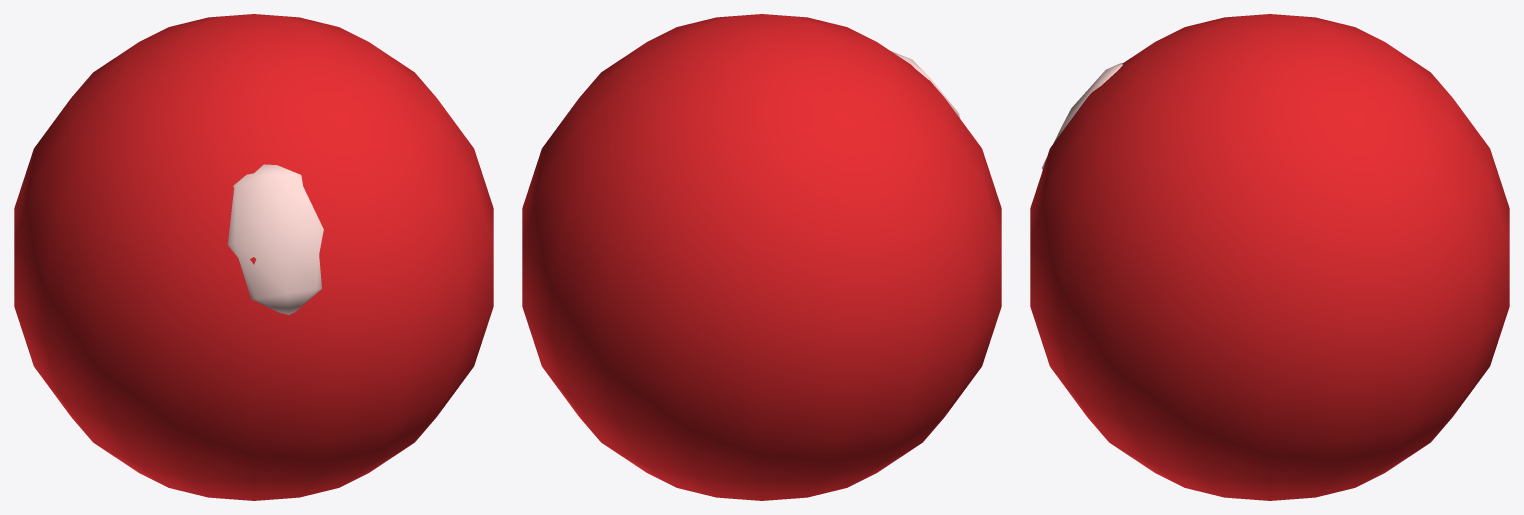
Rendered from acc_clown_nose.glb.
3 renders of one model, left to right at view 1: azimuth 30°, elevation 25°; view 2: azimuth 150°, elevation 25°; view 3: azimuth 270°, elevation 25°, orthographic.
Parts seen in each view (by area): view 1: AccClownNose; view 2: AccClownNose; view 3: AccClownNose.
Part boxes in pixels (left/top/right/bottom): AccClownNose: left=14, top=14, right=493, bottom=500; AccClownNose: left=522, top=14, right=1001, bottom=500; AccClownNose: left=1030, top=14, right=1509, bottom=500.
Size of the model in its own units: 0.1188 by 0.12 by 0.117.
